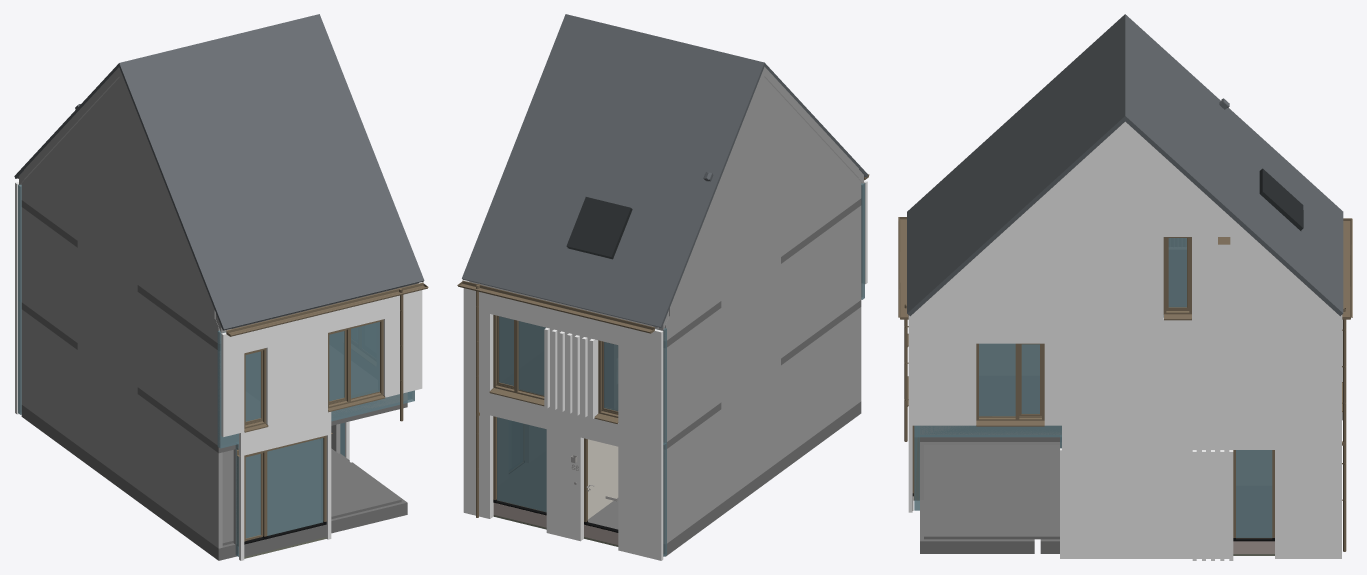
The picture shows the model from 3 angles, left to right: view 1: azimuth 30°, elevation 25°; view 2: azimuth 150°, elevation 25°; view 3: azimuth 270°, elevation 25°; orthographic projection. The views are drawn at different scales.
Visible parts, largest first — view 1: Bouwnummer 99 · Int_Struc_Wall_Grey, Bouwnummer 99 · roof, Bouwnummer 99 · beige, Bouwnummer 99 · glas_helder_plaat_mix, Bouwnummer 99 · Floor_Grey, Bouwnummer 99 · beige-vertical, Bouwnummer 99 · beton_gewapend_prefab-element_mix, Bouwnummer 99 · hout_meranti_profiel_RAL7039_mix, Bouwnummer 99 · isolatie_glaswol_plaat_mix, Bouwnummer 99 · NLRS_h4_aluminium RAL 7039_mix, Bouwnummer 99 · hout_vuren_profiel_tengels_mix; view 2: Bouwnummer 99 · Int_Struc_Wall_Grey, Bouwnummer 99 · roof, Bouwnummer 99 · beige, Bouwnummer 99 · beige-vertical, Bouwnummer 99 · glas_helder_plaat_mix, Bouwnummer 99 · Floor_Grey, Bouwnummer 99 · NLRS_h4_aluminium RAL 7039_mix, Bouwnummer 99 · NLRS_h4_aluminium_RAL7021, Bouwnummer 99 · hout_vuren_profiel_tengels_mix, Bouwnummer 99 · hout_meranti_profiel_RAL7039_mix, Bouwnummer 99 · beton_gewapend_prefab-element_mix, Bouwnummer 99 · Int_wall_non_Stru (+2 smaller); view 3: Bouwnummer 99 · beige, Bouwnummer 99 · roof, Bouwnummer 99 · beige-vertical, Bouwnummer 99 · Floor_Grey, Bouwnummer 99 · glas_helder_plaat_mix, Bouwnummer 99 · NLRS_h4_aluminium RAL 7039_mix, Bouwnummer 99 · hout_meranti_profiel_RAL7039_mix, Bouwnummer 99 · isolatie_glaswol_plaat_mix, Bouwnummer 99 · Int_Struc_Wall_Grey, Bouwnummer 99 · NLRS_h4_aluminium_RAL7021, Bouwnummer 99 · beton_gewapend_prefab-element_mix.
Boxes of the visible parts, x1=… form: Bouwnummer 99 · Int_Struc_Wall_Grey: x1=21, y1=78, x2=407, y2=548; Bouwnummer 99 · roof: x1=14, y1=14, x2=424, y2=330; Bouwnummer 99 · beige: x1=15, y1=206, x2=422, y2=560; Bouwnummer 99 · glas_helder_plaat_mix: x1=245, y1=322, x2=379, y2=538; Bouwnummer 99 · Floor_Grey: x1=21, y1=405, x2=407, y2=560; Bouwnummer 99 · beige-vertical: x1=15, y1=182, x2=422, y2=456; Bouwnummer 99 · beton_gewapend_prefab-element_mix: x1=21, y1=200, x2=407, y2=556; Bouwnummer 99 · hout_meranti_profiel_RAL7039_mix: x1=244, y1=319, x2=383, y2=541; Bouwnummer 99 · isolatie_glaswol_plaat_mix: x1=18, y1=184, x2=414, y2=556; Bouwnummer 99 · NLRS_h4_aluminium RAL 7039_mix: x1=18, y1=178, x2=428, y2=432; Bouwnummer 99 · hout_vuren_profiel_tengels_mix: x1=19, y1=67, x2=416, y2=333; Bouwnummer 99 · Int_Struc_Wall_Grey: x1=663, y1=77, x2=861, y2=543; Bouwnummer 99 · roof: x1=462, y1=14, x2=868, y2=327; Bouwnummer 99 · beige: x1=463, y1=205, x2=867, y2=560; Bouwnummer 99 · beige-vertical: x1=463, y1=180, x2=867, y2=456; Bouwnummer 99 · glas_helder_plaat_mix: x1=497, y1=316, x2=618, y2=512; Bouwnummer 99 · Floor_Grey: x1=588, y1=401, x2=861, y2=556; Bouwnummer 99 · NLRS_h4_aluminium RAL 7039_mix: x1=457, y1=174, x2=869, y2=517; Bouwnummer 99 · NLRS_h4_aluminium_RAL7021: x1=566, y1=197, x2=632, y2=259; Bouwnummer 99 · hout_vuren_profiel_tengels_mix: x1=469, y1=66, x2=863, y2=330; Bouwnummer 99 · hout_meranti_profiel_RAL7039_mix: x1=493, y1=315, x2=618, y2=521; Bouwnummer 99 · beton_gewapend_prefab-element_mix: x1=663, y1=198, x2=861, y2=449; Bouwnummer 99 · Int_wall_non_Stru: x1=588, y1=439, x2=618, y2=519; Bouwnummer 99 · beige: x1=908, y1=121, x2=1342, y2=560; Bouwnummer 99 · roof: x1=907, y1=14, x2=1343, y2=316; Bouwnummer 99 · beige-vertical: x1=908, y1=318, x2=1341, y2=450; Bouwnummer 99 · Floor_Grey: x1=920, y1=445, x2=1059, y2=553; Bouwnummer 99 · glas_helder_plaat_mix: x1=979, y1=238, x2=1272, y2=537; Bouwnummer 99 · NLRS_h4_aluminium RAL 7039_mix: x1=898, y1=217, x2=1352, y2=551; Bouwnummer 99 · hout_meranti_profiel_RAL7039_mix: x1=912, y1=237, x2=1274, y2=537; Bouwnummer 99 · isolatie_glaswol_plaat_mix: x1=914, y1=315, x2=1163, y2=510; Bouwnummer 99 · Int_Struc_Wall_Grey: x1=920, y1=426, x2=1061, y2=499; Bouwnummer 99 · NLRS_h4_aluminium_RAL7021: x1=1259, y1=168, x2=1303, y2=230; Bouwnummer 99 · beton_gewapend_prefab-element_mix: x1=912, y1=437, x2=1059, y2=508.
Bounding box in the file's own units: 6.07 × 12.17 × 11.28.
